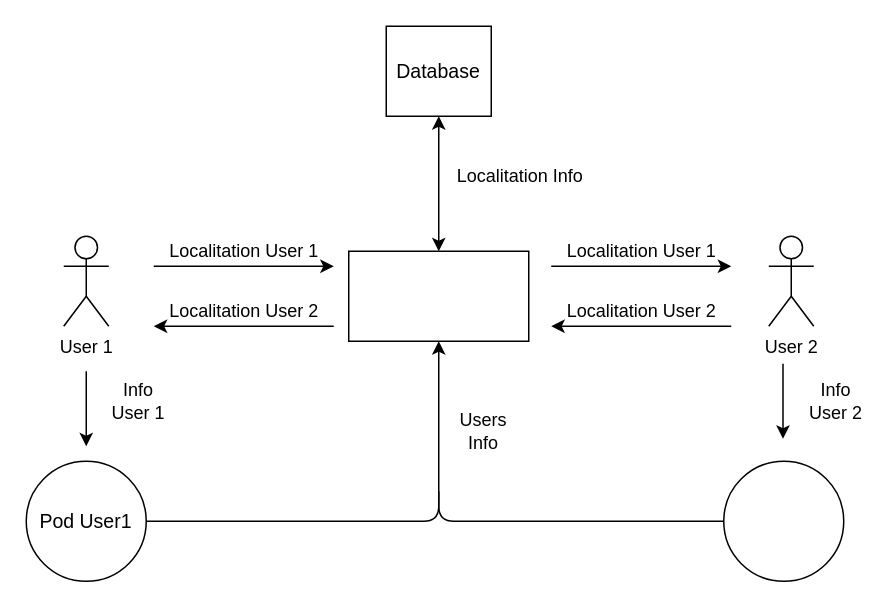
Some shapes in this 893 by 608 pixel diagram are drawn without their labels. Here are the shapes that lost their labels. From the top down, the box of each, then its label:
(347, 250, 529, 341): Radarín app
(722, 460, 844, 581): Pod User2
